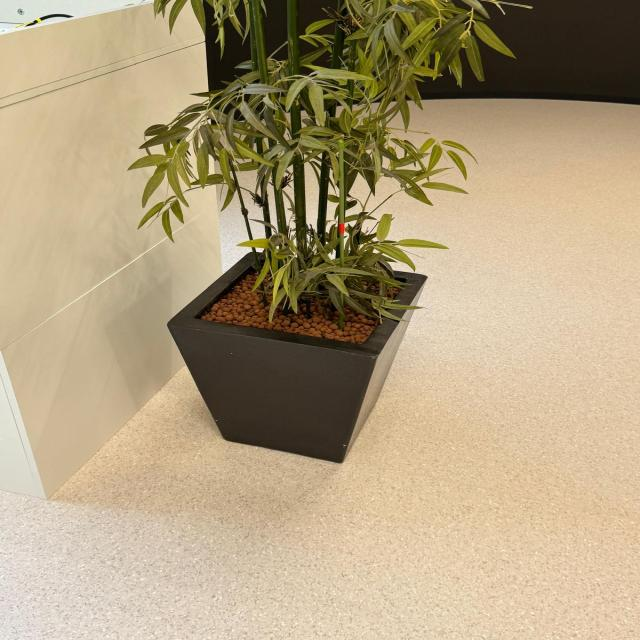Pot: (166, 252, 429, 464)
